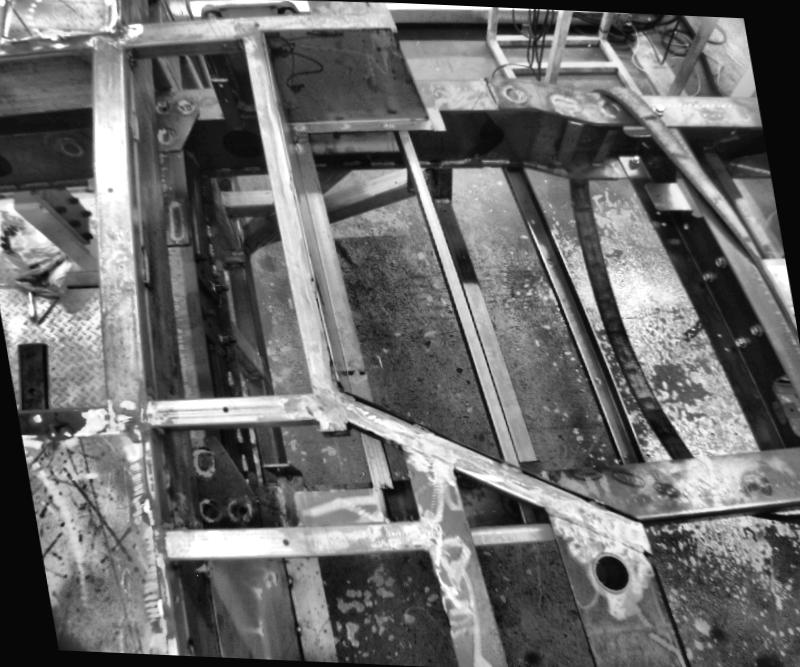bolt: (649, 99, 665, 116), (744, 320, 760, 335), (626, 151, 642, 165), (698, 269, 714, 282), (712, 255, 724, 268), (731, 334, 743, 345)
bracket: (8, 331, 54, 403), (636, 171, 692, 227), (763, 369, 799, 438), (57, 262, 103, 290)
hole: (590, 551, 632, 591), (26, 379, 40, 390), (278, 533, 290, 544), (594, 372, 603, 383), (622, 448, 632, 457), (225, 402, 234, 410), (103, 183, 112, 191), (544, 254, 553, 262), (528, 215, 538, 222), (677, 148, 686, 155)
